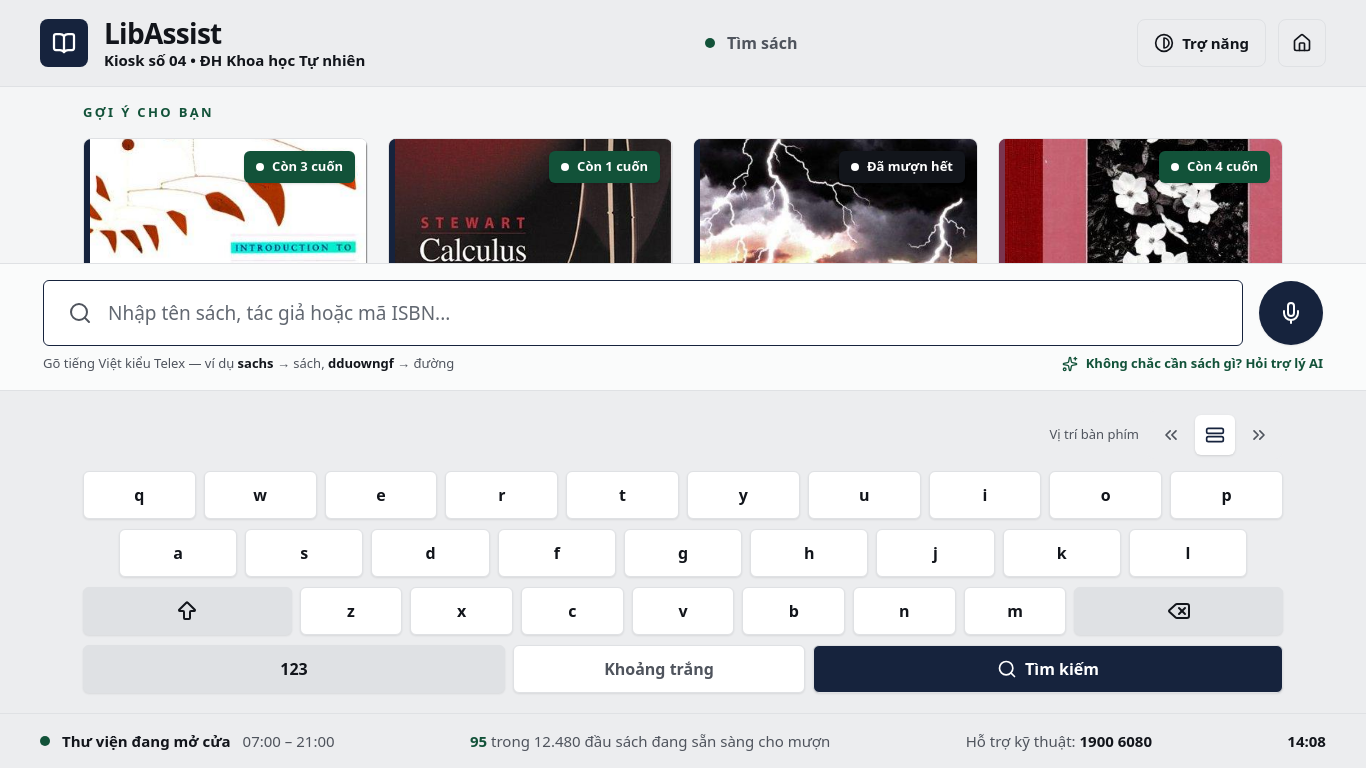
Test: Kiosk SearchPage › matches a query typed without diacritics
Click the button "v": x=683, y=610 [632,586,734,634]
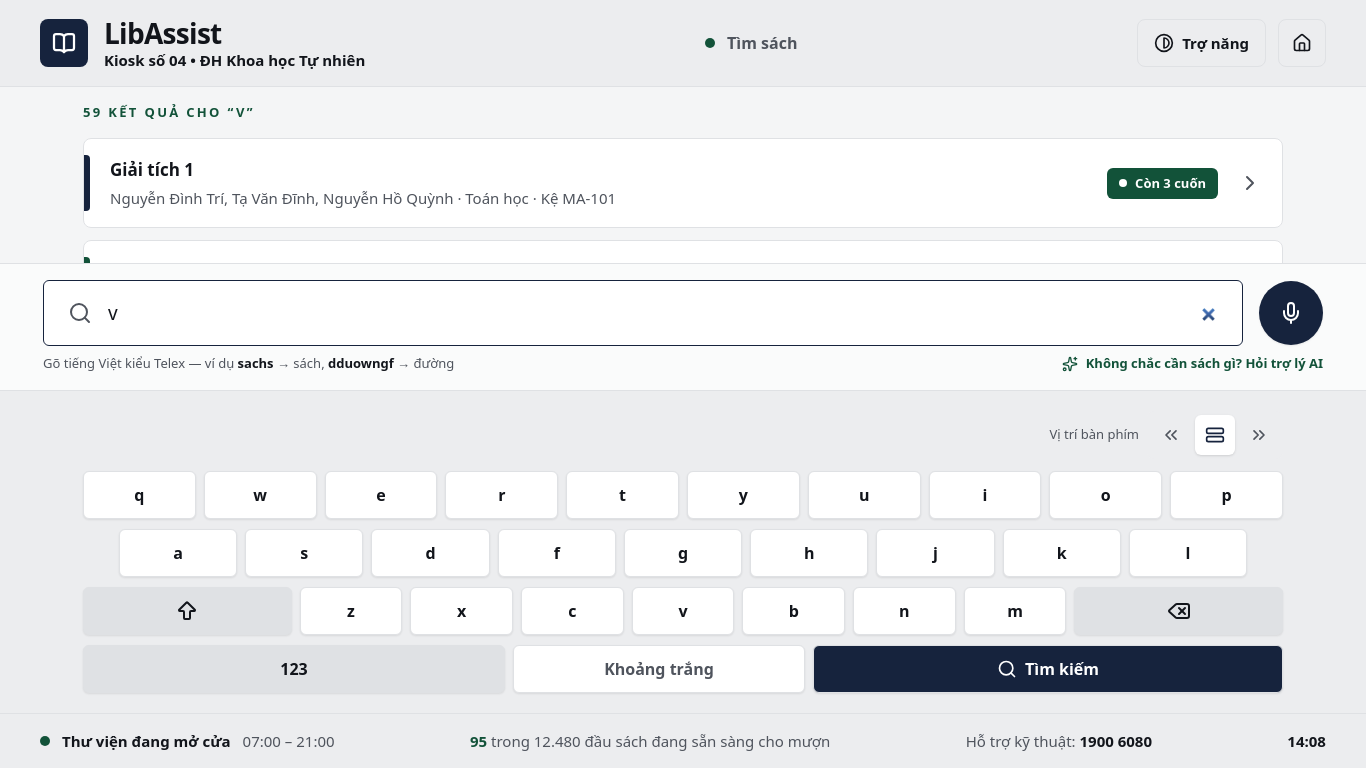
Click the button "a": x=178, y=552 [119,528,237,576]
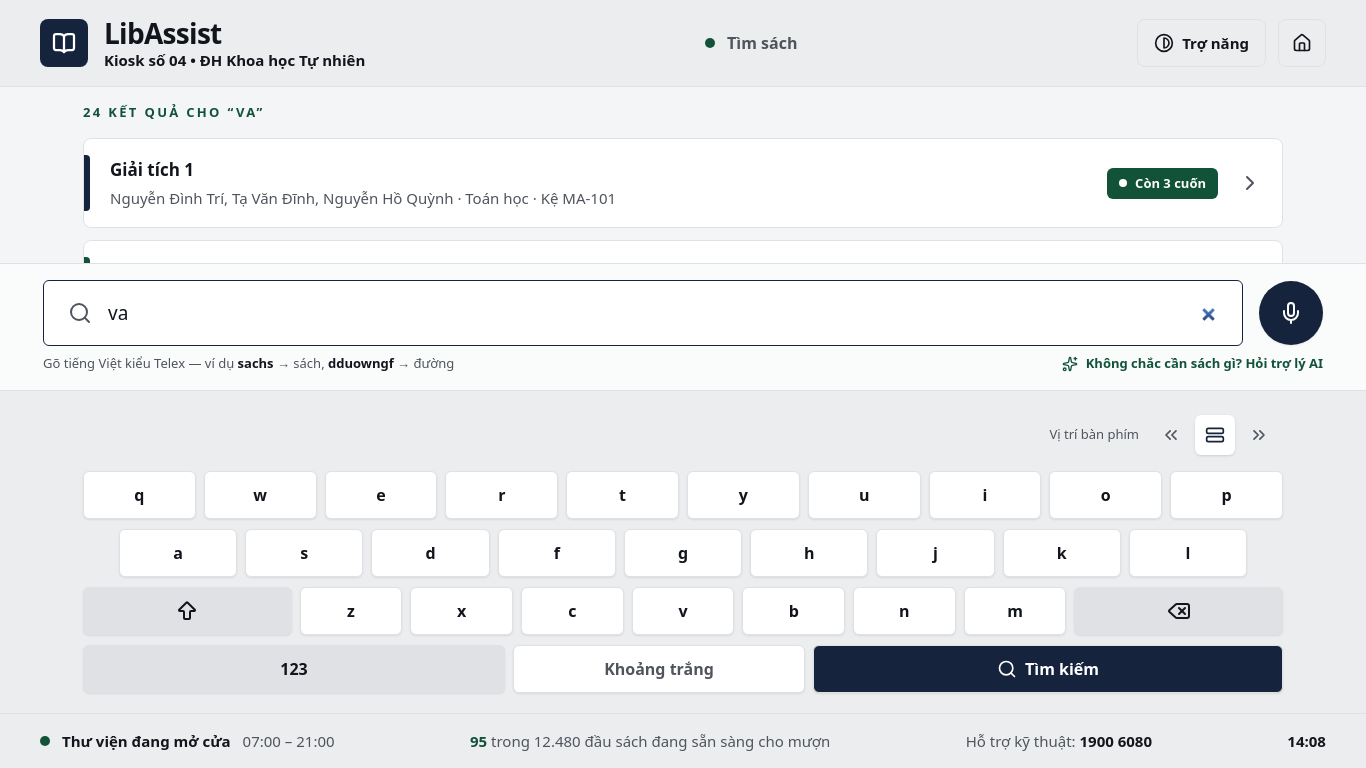
Click the button "t": x=623, y=494 [566,470,679,518]
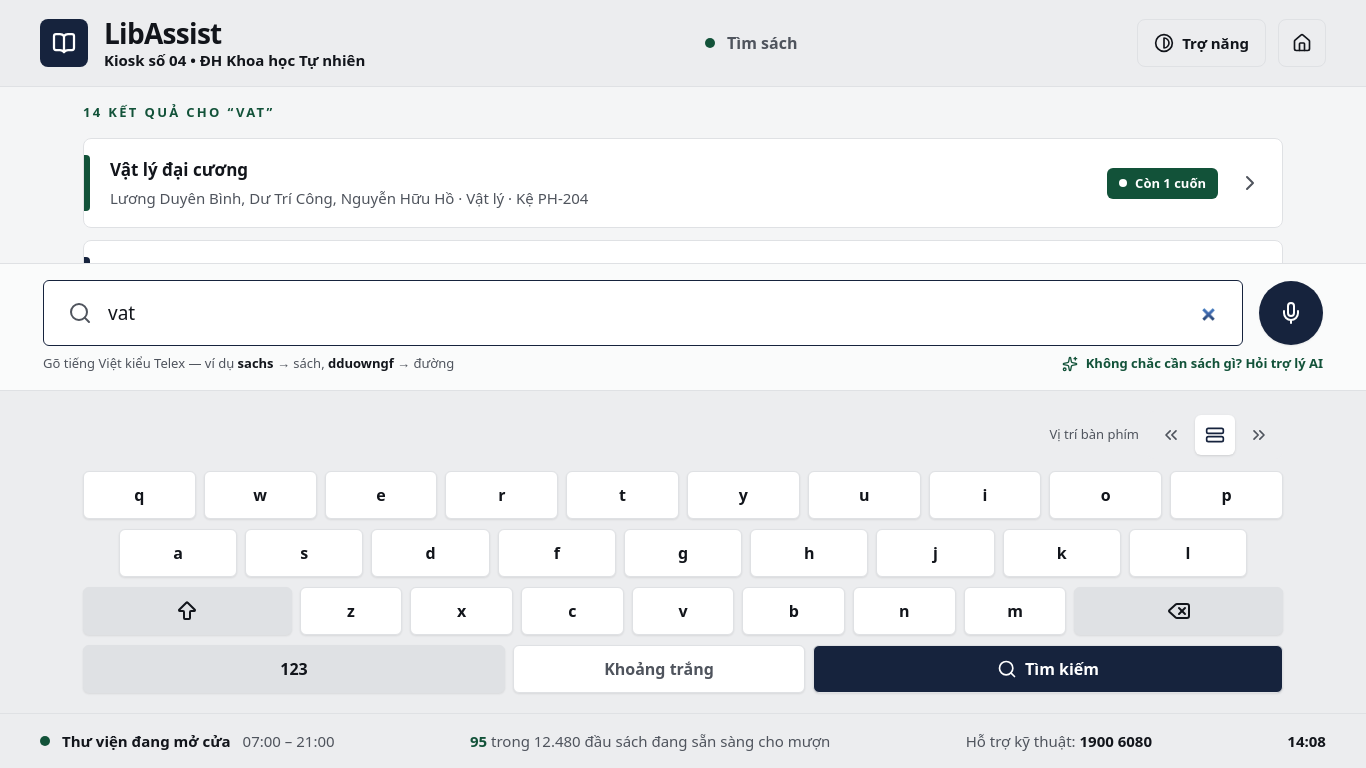
Result: the text "Vật lý đại cương" is shown at [110,158,248,181]
